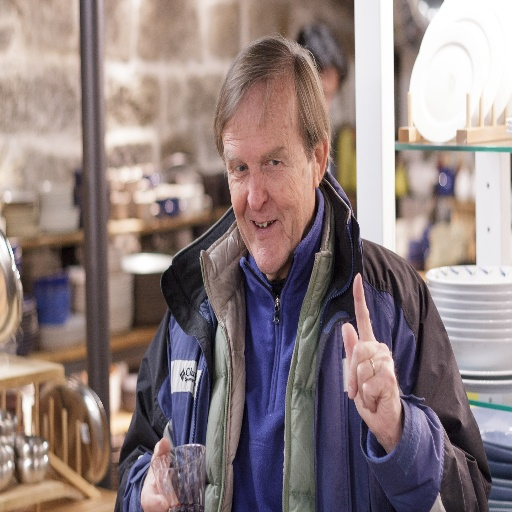hand: (344, 302, 405, 444), (139, 436, 176, 511)
